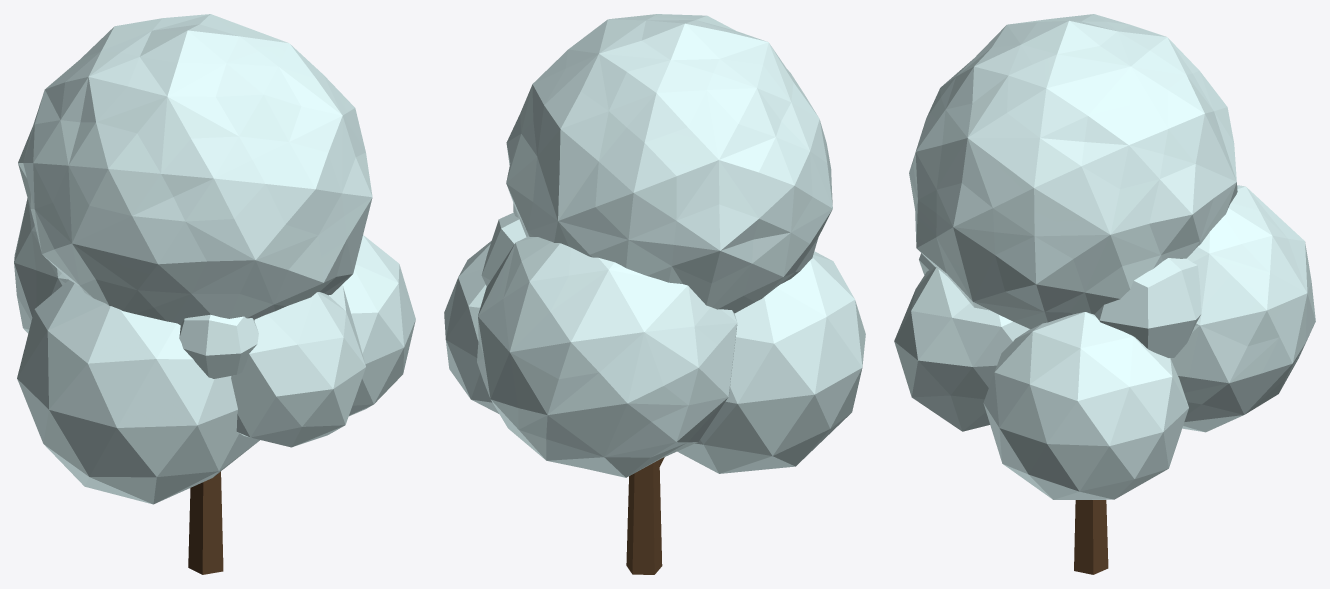
File: tree-lime_white.glb
The picture shows the model from 3 angles, left to right: view 1: azimuth 30°, elevation 25°; view 2: azimuth 150°, elevation 25°; view 3: azimuth 270°, elevation 25°; orthographic projection. The views are drawn at different scales.
Visible parts, largest first — view 1: tree-lime_winter; view 2: tree-lime_winter; view 3: tree-lime_winter.
Boxes of the visible parts, x1=… form: tree-lime_winter: x1=14, y1=14, x2=415, y2=574; tree-lime_winter: x1=444, y1=14, x2=865, y2=574; tree-lime_winter: x1=894, y1=14, x2=1315, y2=574.
Size of the model in its own units: 4.71 by 6.49 by 4.66.
1 material, 1 textured.
